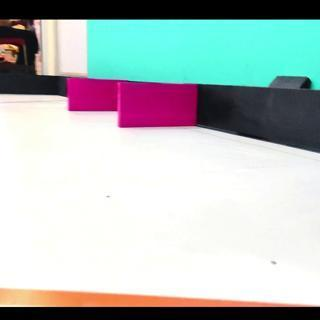xparking: (120, 86, 194, 128), (69, 80, 118, 112)
